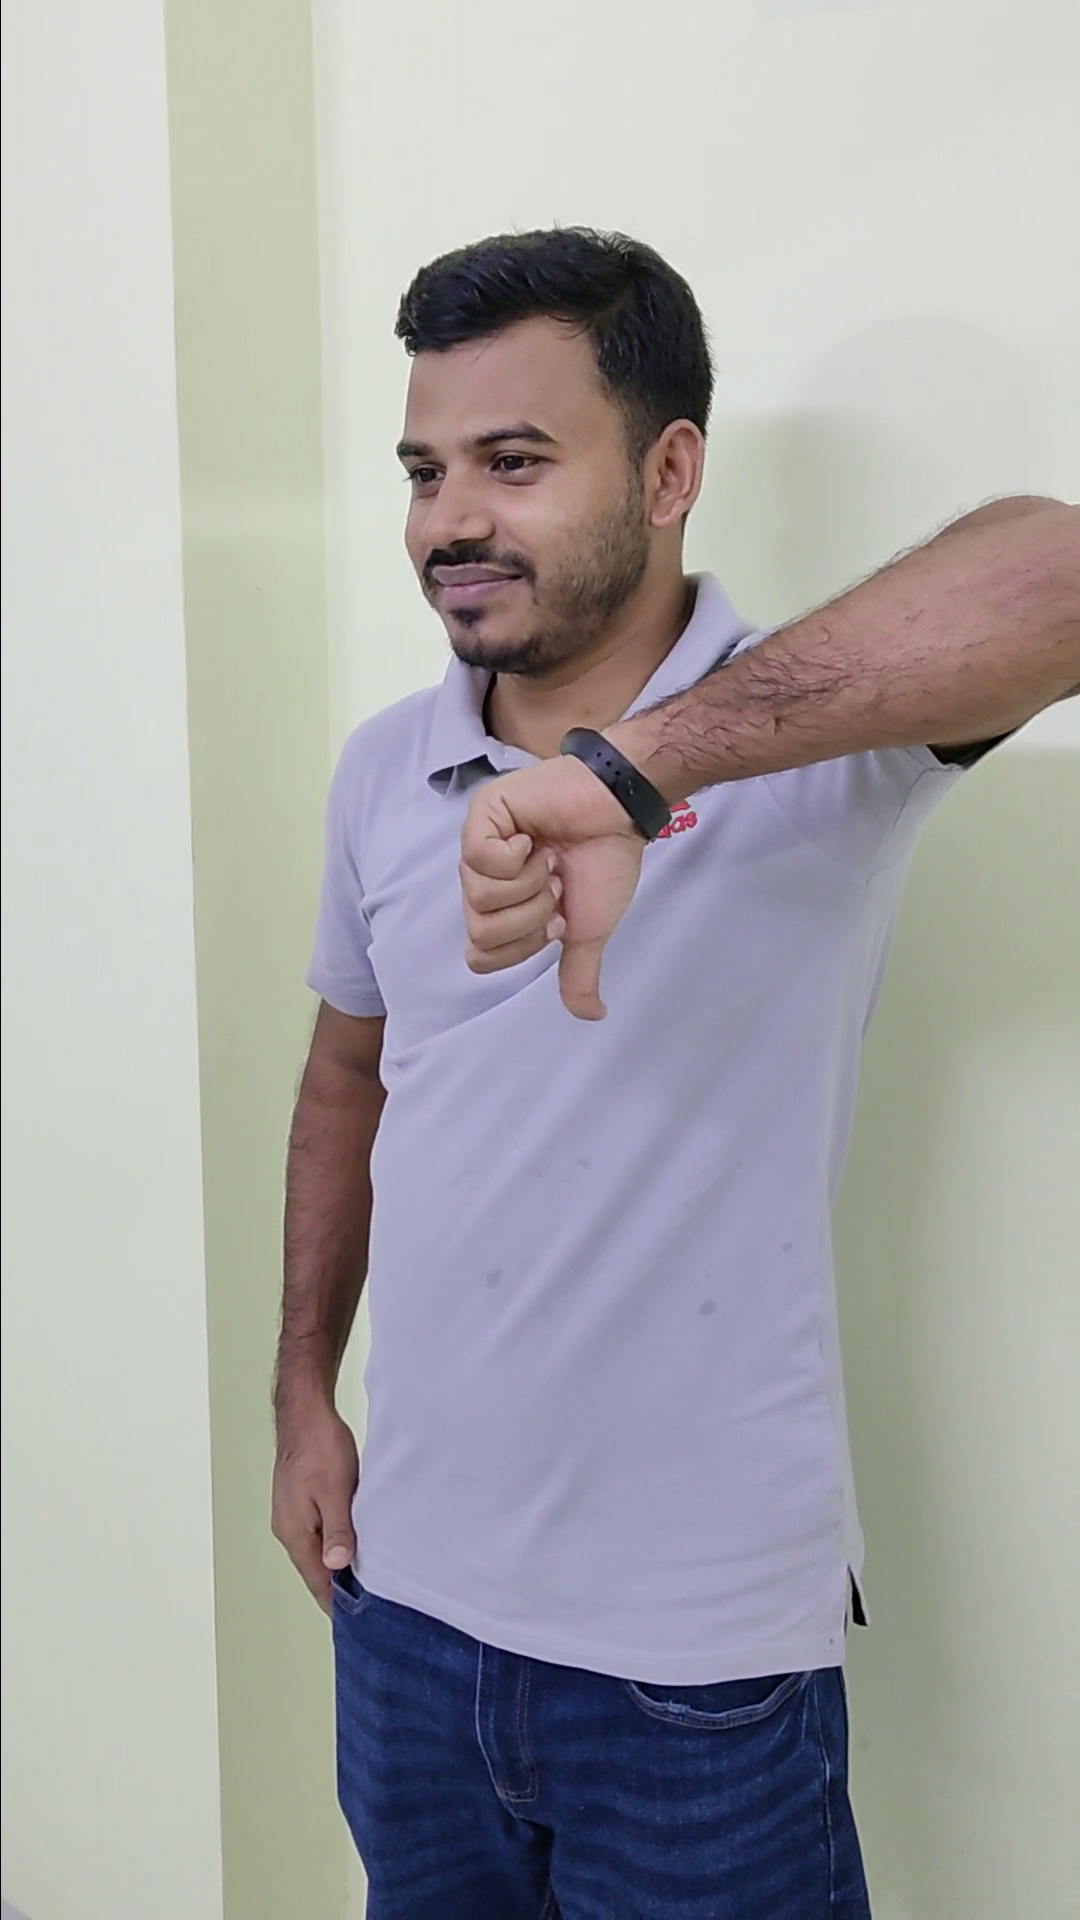Dislike: (433, 713, 662, 1039)
None: (243, 1348, 389, 1640)
